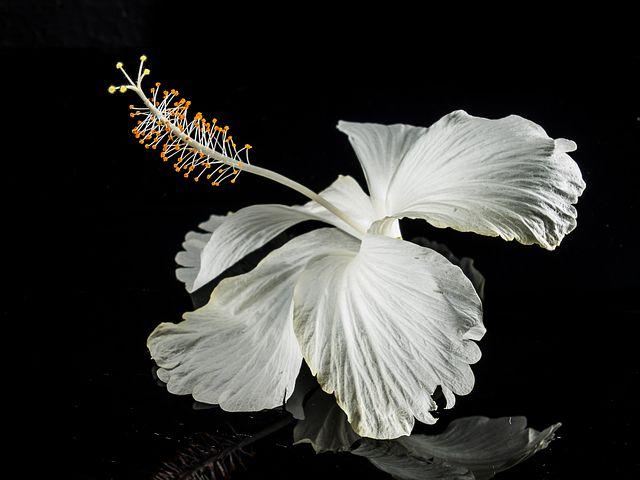Hibiscus: (104, 34, 566, 431)
